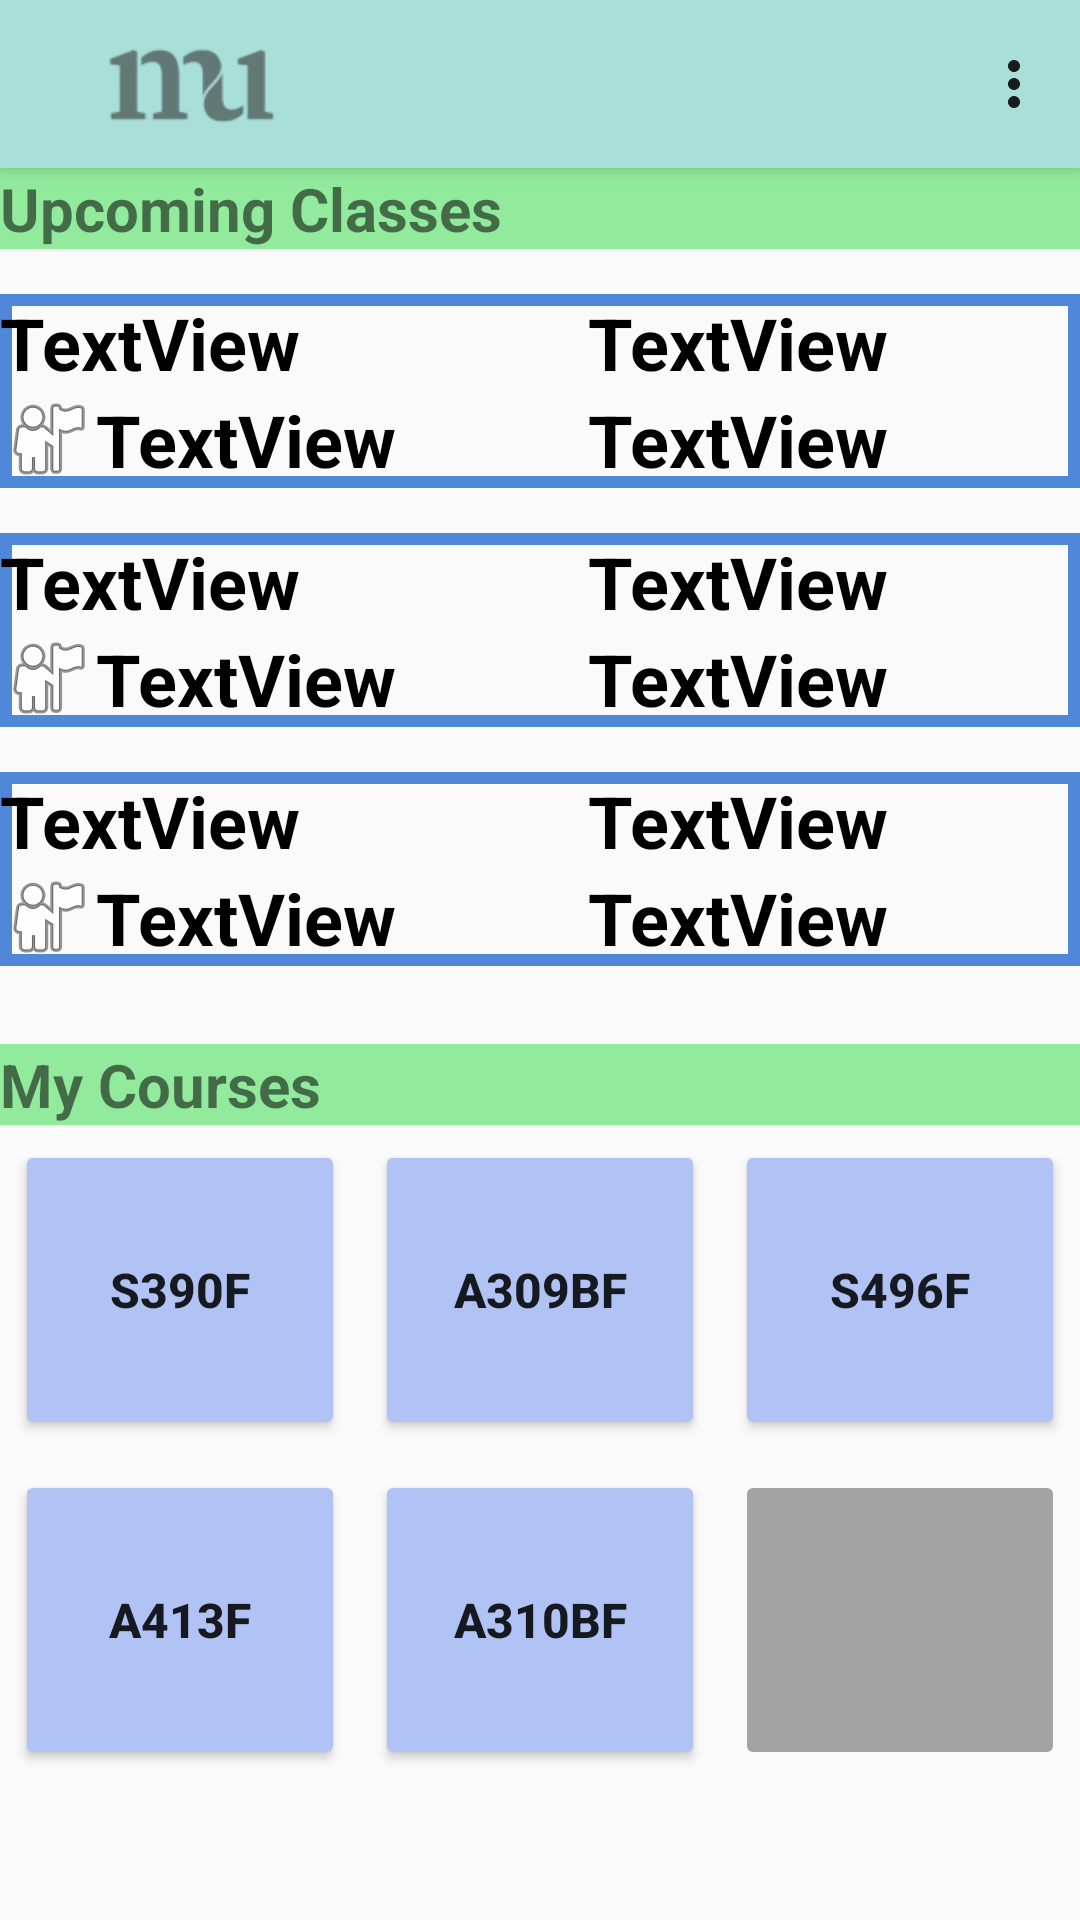

Named icons in this screenshot (1080×1920) and their centers, [x,y]:
myplaces: [48,439], [48,678], [48,917]
